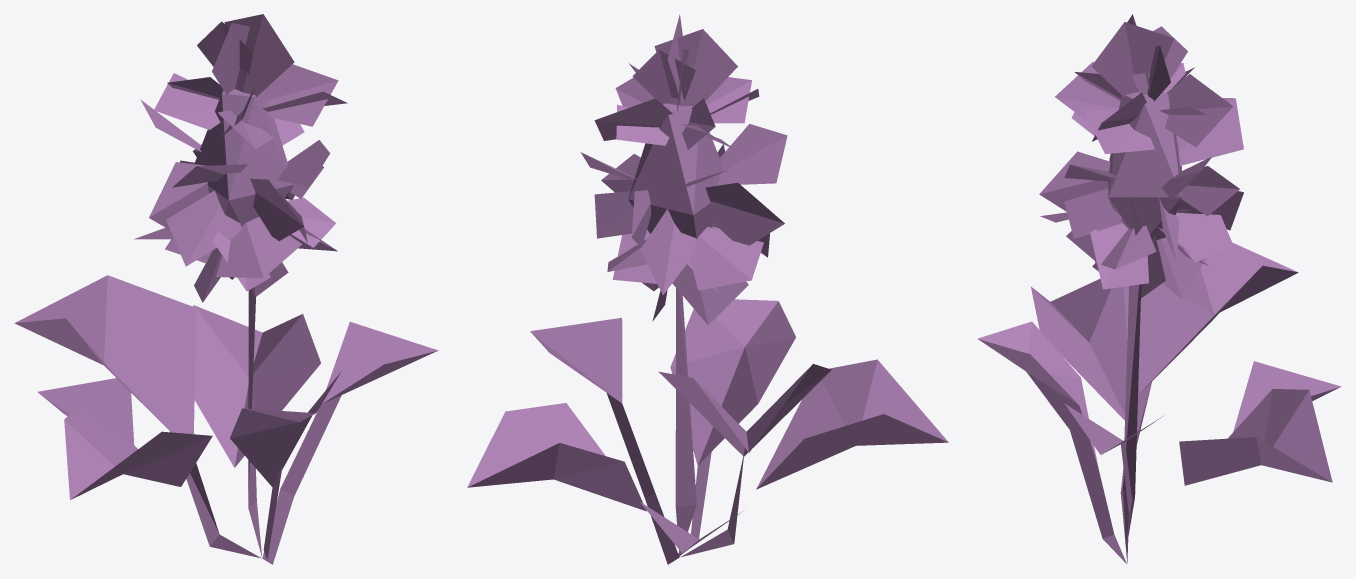
File: zone3-c12.glb
3 views of the same model, side by side, from view 1: azimuth 30°, elevation 25°; view 2: azimuth 150°, elevation 25°; view 3: azimuth 270°, elevation 25° (orthographic). The views are drawn at different scales.
Visible parts, largest first — view 1: waterplant-hyacinth-water-sprig-b.001; view 2: waterplant-hyacinth-water-sprig-b.001; view 3: waterplant-hyacinth-water-sprig-b.001.
Part boxes in pixels (x1,y1,x2,y2): waterplant-hyacinth-water-sprig-b.001: (14, 14, 438, 564); waterplant-hyacinth-water-sprig-b.001: (467, 14, 948, 564); waterplant-hyacinth-water-sprig-b.001: (977, 14, 1341, 563).
Bounding box in the file's own units: 37.31 × 50.11 × 30.76.
